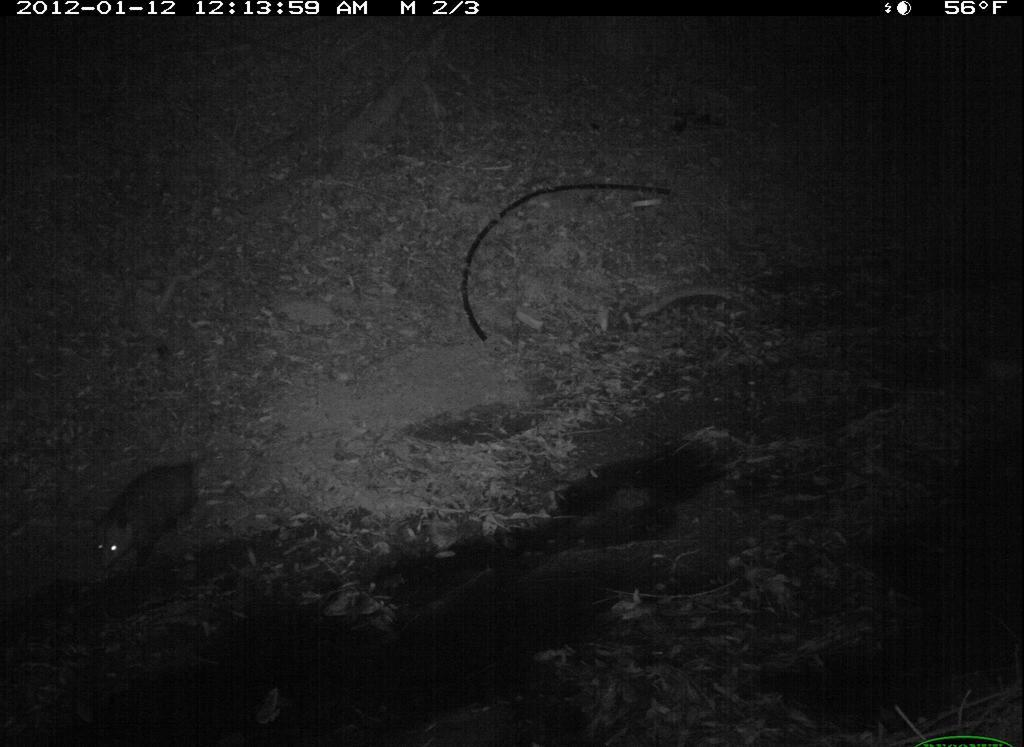opossum: (85, 457, 221, 579)
